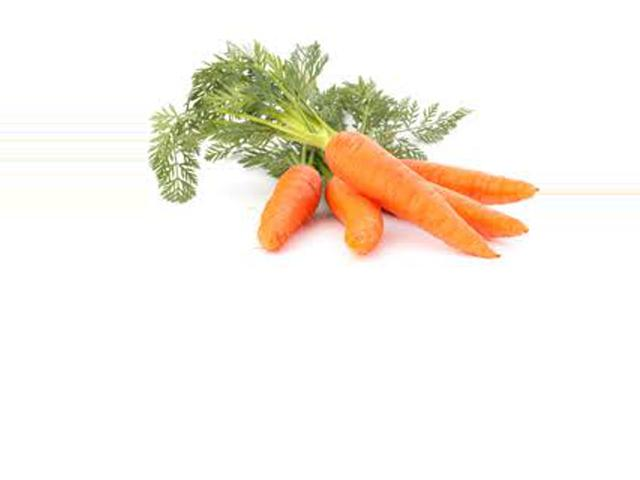carrot: (298, 116, 493, 266)
